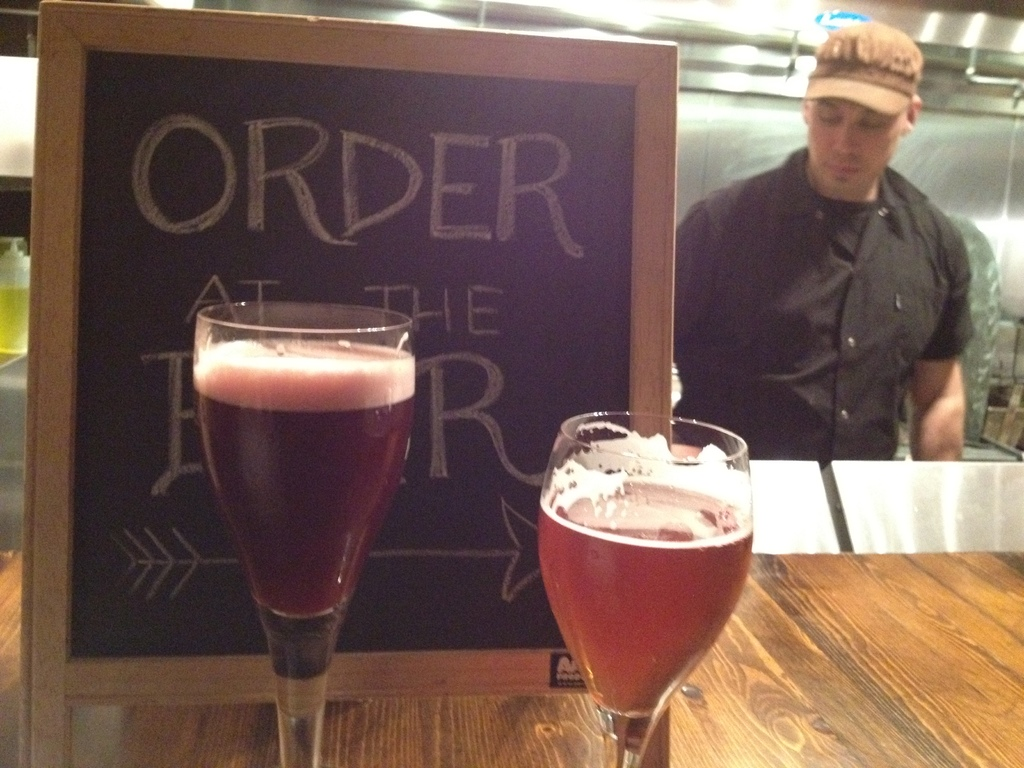Beer: (185, 333, 413, 616), (537, 476, 749, 717)
